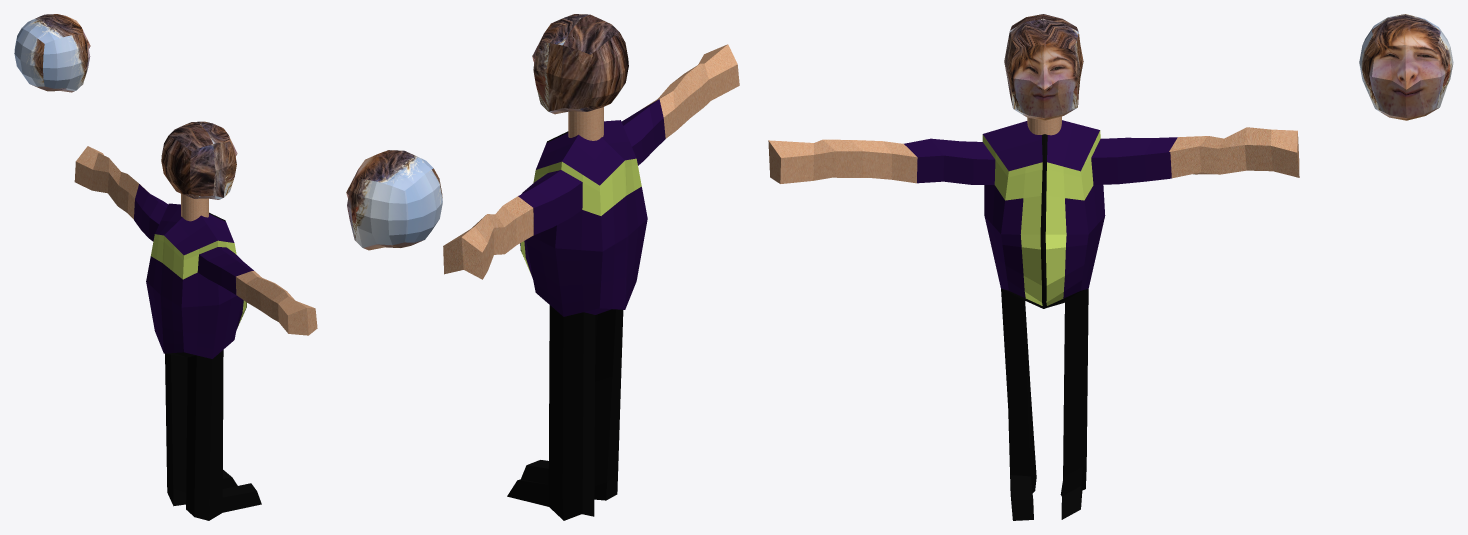
Rendered from NPC texture boi.fbx.
3 views of the same model, side by side, from view 1: azimuth 30°, elevation 25°; view 2: azimuth 150°, elevation 25°; view 3: azimuth 270°, elevation 25° (orthographic). The views are drawn at different scales.
Visible parts, largest first — view 1: Cube.001, Cube, Cube.002, Cube.003, Cube.004, Cylinder; view 2: Cube.001, Cube.002, Cube, Cube.004, Cube.003, Cylinder; view 3: Cube.001, Cube.002, Cube, Cube.003, Cube.004.
Boxes of the visible parts, x1=… form: Cube.001: x1=134, y1=184, x2=261, y2=520; Cube: x1=161, y1=121, x2=237, y2=199; Cube.002: x1=14, y1=14, x2=90, y2=92; Cube.003: x1=236, y1=271, x2=317, y2=335; Cube.004: x1=74, y1=146, x2=149, y2=219; Cylinder: x1=181, y1=193, x2=208, y2=221; Cube.001: x1=507, y1=99, x2=665, y2=520; Cube.002: x1=346, y1=150, x2=442, y2=250; Cube: x1=532, y1=14, x2=628, y2=114; Cube.004: x1=443, y1=196, x2=533, y2=279; Cube.003: x1=642, y1=44, x2=739, y2=138; Cylinder: x1=568, y1=107, x2=603, y2=140; Cube.001: x1=904, y1=120, x2=1177, y2=520; Cube.002: x1=1359, y1=14, x2=1453, y2=120; Cube: x1=1004, y1=14, x2=1083, y2=120; Cube.003: x1=768, y1=139, x2=917, y2=183; Cube.004: x1=1169, y1=127, x2=1299, y2=178.
Bounding box in the file's own units: 233 × 953 × 1240.
Materials: 8 (5 with a texture image).
